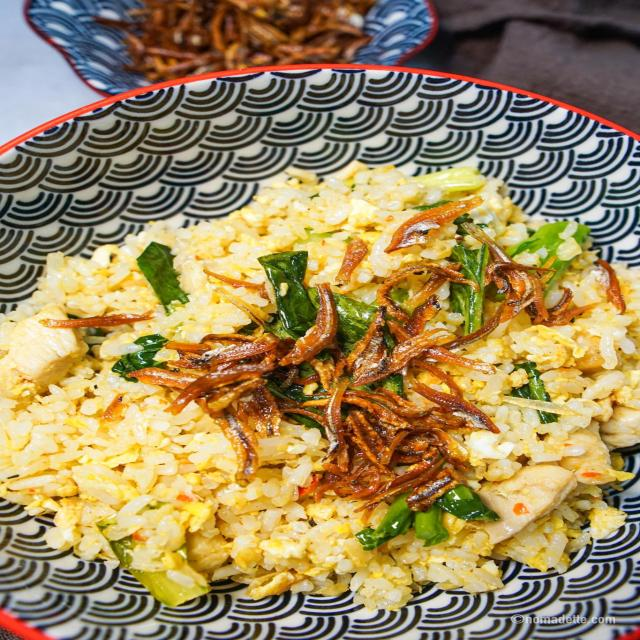Nasi Goreng: (2, 160, 638, 610)
